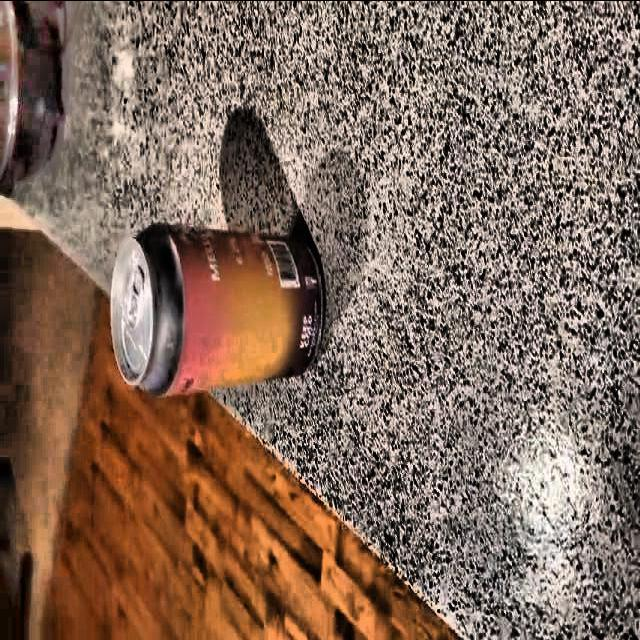Aluminum Can: (97, 219, 330, 398)
